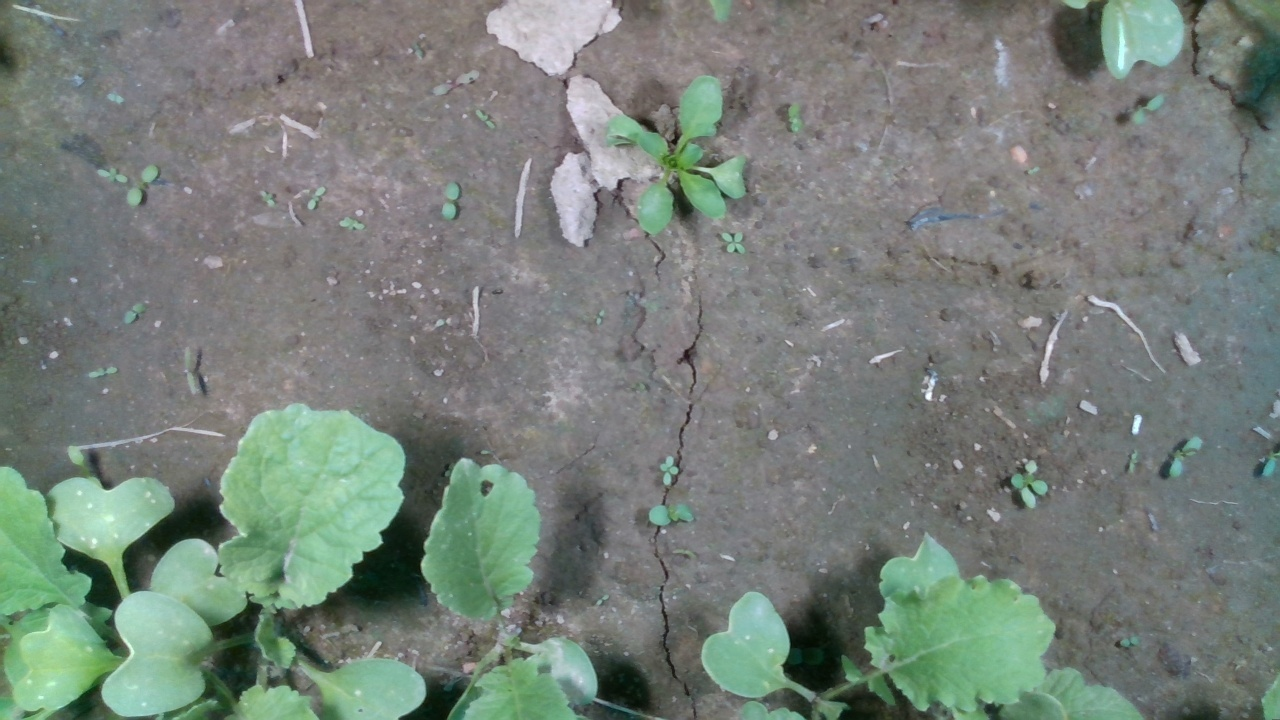weed: (1009, 459, 1049, 510), (126, 163, 161, 208), (1169, 435, 1203, 479), (1129, 92, 1165, 126), (647, 501, 696, 525), (440, 179, 460, 222), (183, 345, 198, 397), (94, 165, 128, 186), (658, 453, 679, 486), (719, 231, 747, 255), (120, 302, 145, 327), (788, 99, 803, 135), (308, 184, 327, 211), (86, 363, 118, 379), (474, 109, 496, 129), (256, 190, 278, 209), (1127, 448, 1139, 474), (594, 308, 604, 328)
